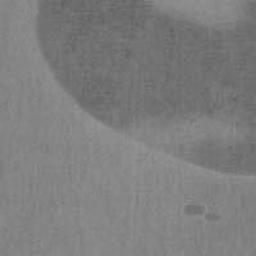Oil spot: (33, 0, 256, 179), (182, 200, 224, 223)
